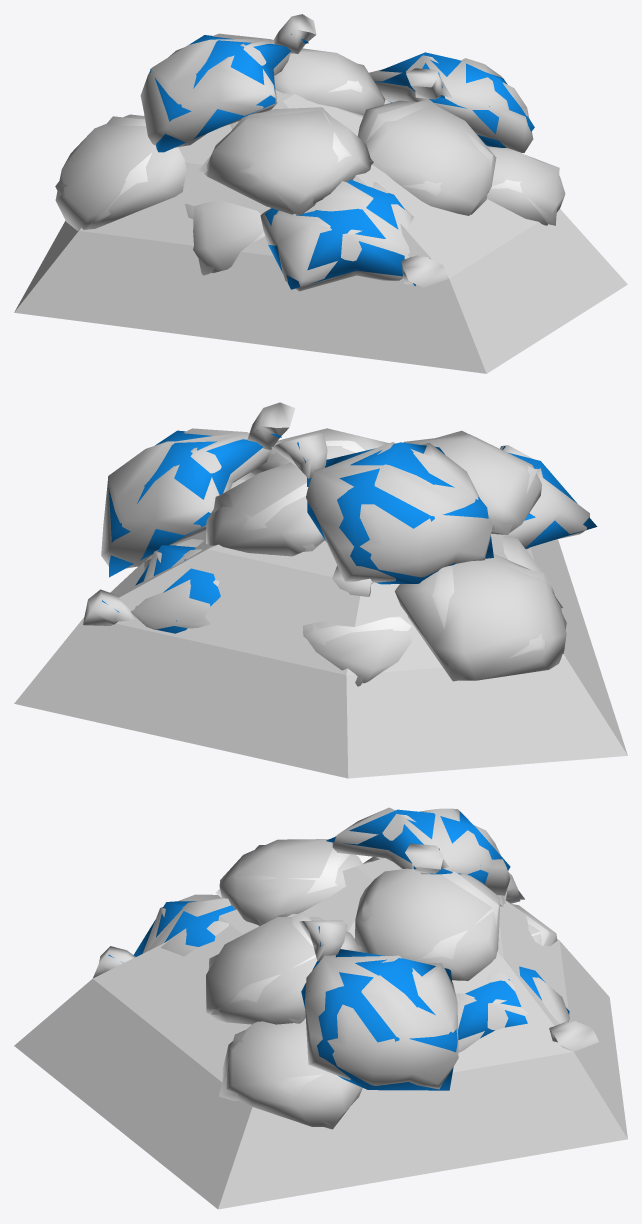
Rendered from port_bags_pile1.dae.
3 renders of one model, top to bottom at view 1: azimuth 30°, elevation 25°; view 2: azimuth 150°, elevation 25°; view 3: azimuth 270°, elevation 25°, orthographic. The views are drawn at different scales.
Visible parts, largest first — view 1: port_bags_pile1_a150, Colmesh-1, port_bags_pile1_a030; view 2: Colmesh-1, port_bags_pile1_a150, port_bags_pile1_a030; view 3: Colmesh-1, port_bags_pile1_a150, port_bags_pile1_a030.
Part boxes in pixels (<box>): port_bags_pile1_a150: <box>55,14,565,291</box>; Colmesh-1: <box>14,90,627,373</box>; port_bags_pile1_a030: <box>55,34,559,289</box>; Colmesh-1: <box>14,530,627,778</box>; port_bags_pile1_a150: <box>83,402,589,683</box>; port_bags_pile1_a030: <box>102,430,597,686</box>; Colmesh-1: <box>14,858,627,1209</box>; port_bags_pile1_a150: <box>93,807,598,1127</box>; port_bags_pile1_a030: <box>108,809,578,1129</box>.
Size of the model in its own units: 2.32 by 2.35 by 1.06.
